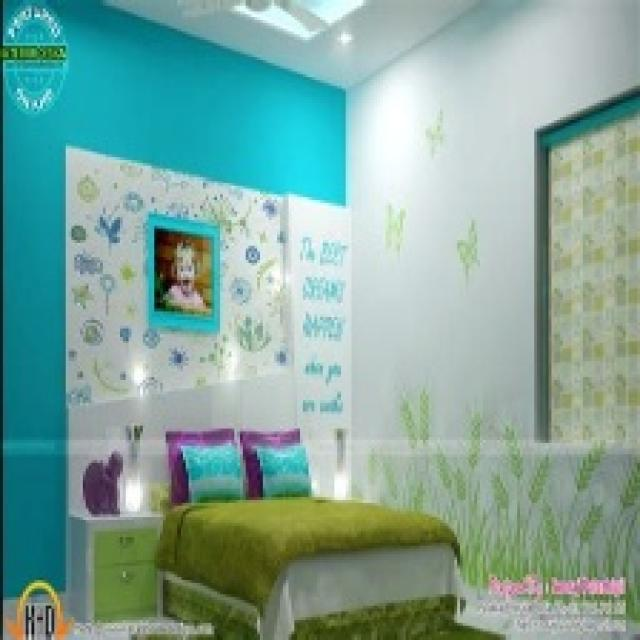Bed: (151, 494, 463, 637)
